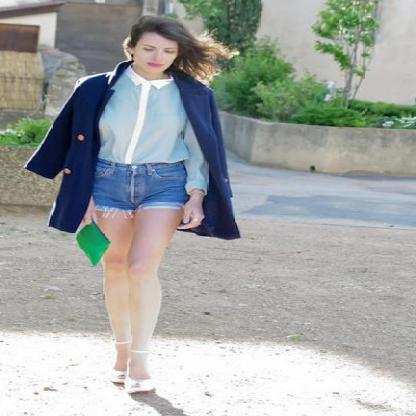bag: (76, 221, 109, 248)
jacket: (25, 75, 236, 239)
shoe: (118, 365, 150, 387)
shorts: (92, 159, 190, 210)
